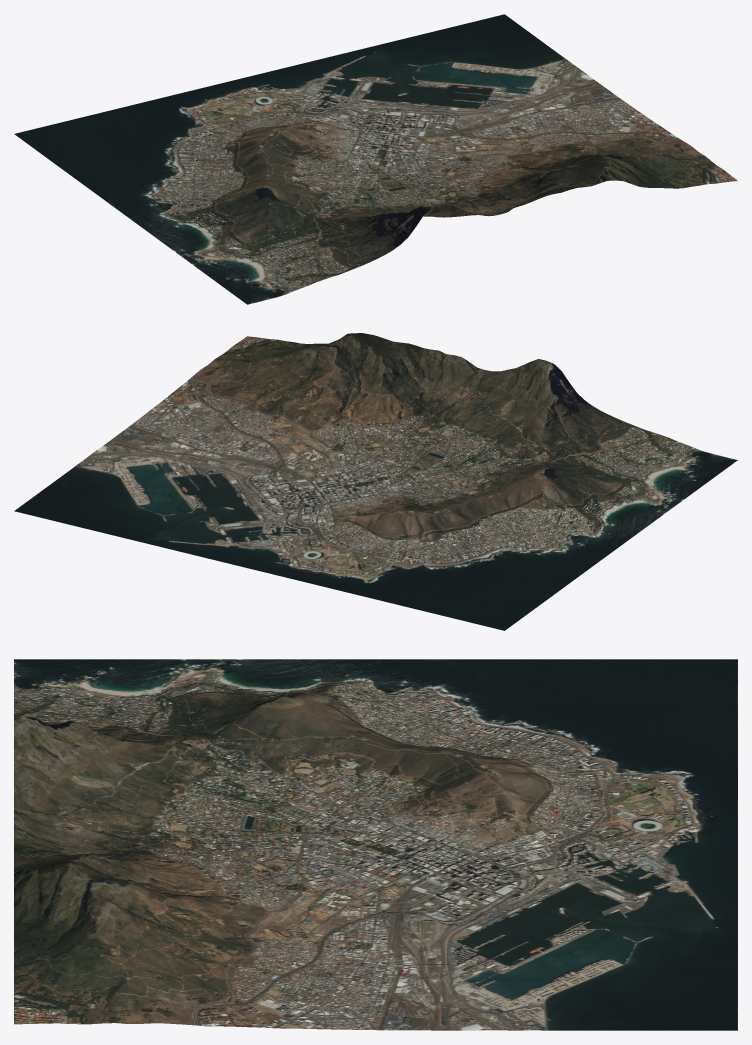
Rendered from level1terrain.glb.
3 views of the same model, one above another, from view 1: azimuth 30°, elevation 25°; view 2: azimuth 150°, elevation 25°; view 3: azimuth 270°, elevation 25° (orthographic). The views are drawn at different scales.
Visible parts, largest first — view 1: Object_2; view 2: Object_2; view 3: Object_2.
Part boxes in pixels (x1=…): Object_2: x1=14, y1=14, x2=737, y2=304; Object_2: x1=14, y1=333, x2=737, y2=630; Object_2: x1=14, y1=659, x2=737, y2=1030.
Bounding box in the file's own units: 10395 × 1070 × 8561.
Materials: 1 (1 with a texture image).
